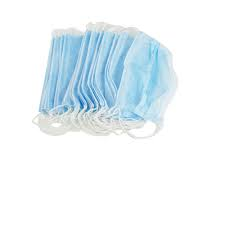flumask: (118, 28, 174, 120)
